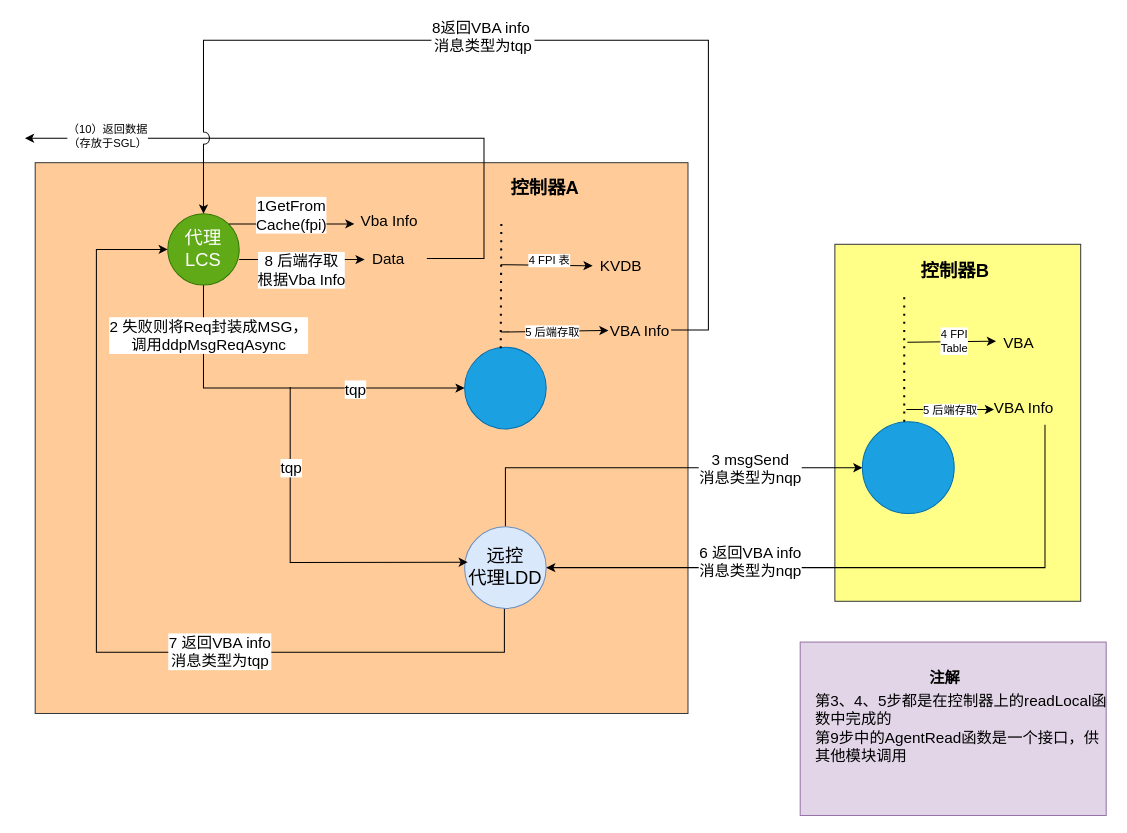
The diagram is 1127 pixels wide and 833 high, and some of its shapes have lost their labels. The box of each missing label's shape, as (x1, y1, x2, y2) in pixels:
控A 主LDD: (464, 346, 546, 429)
控B 主LDD: (861, 421, 954, 514)
